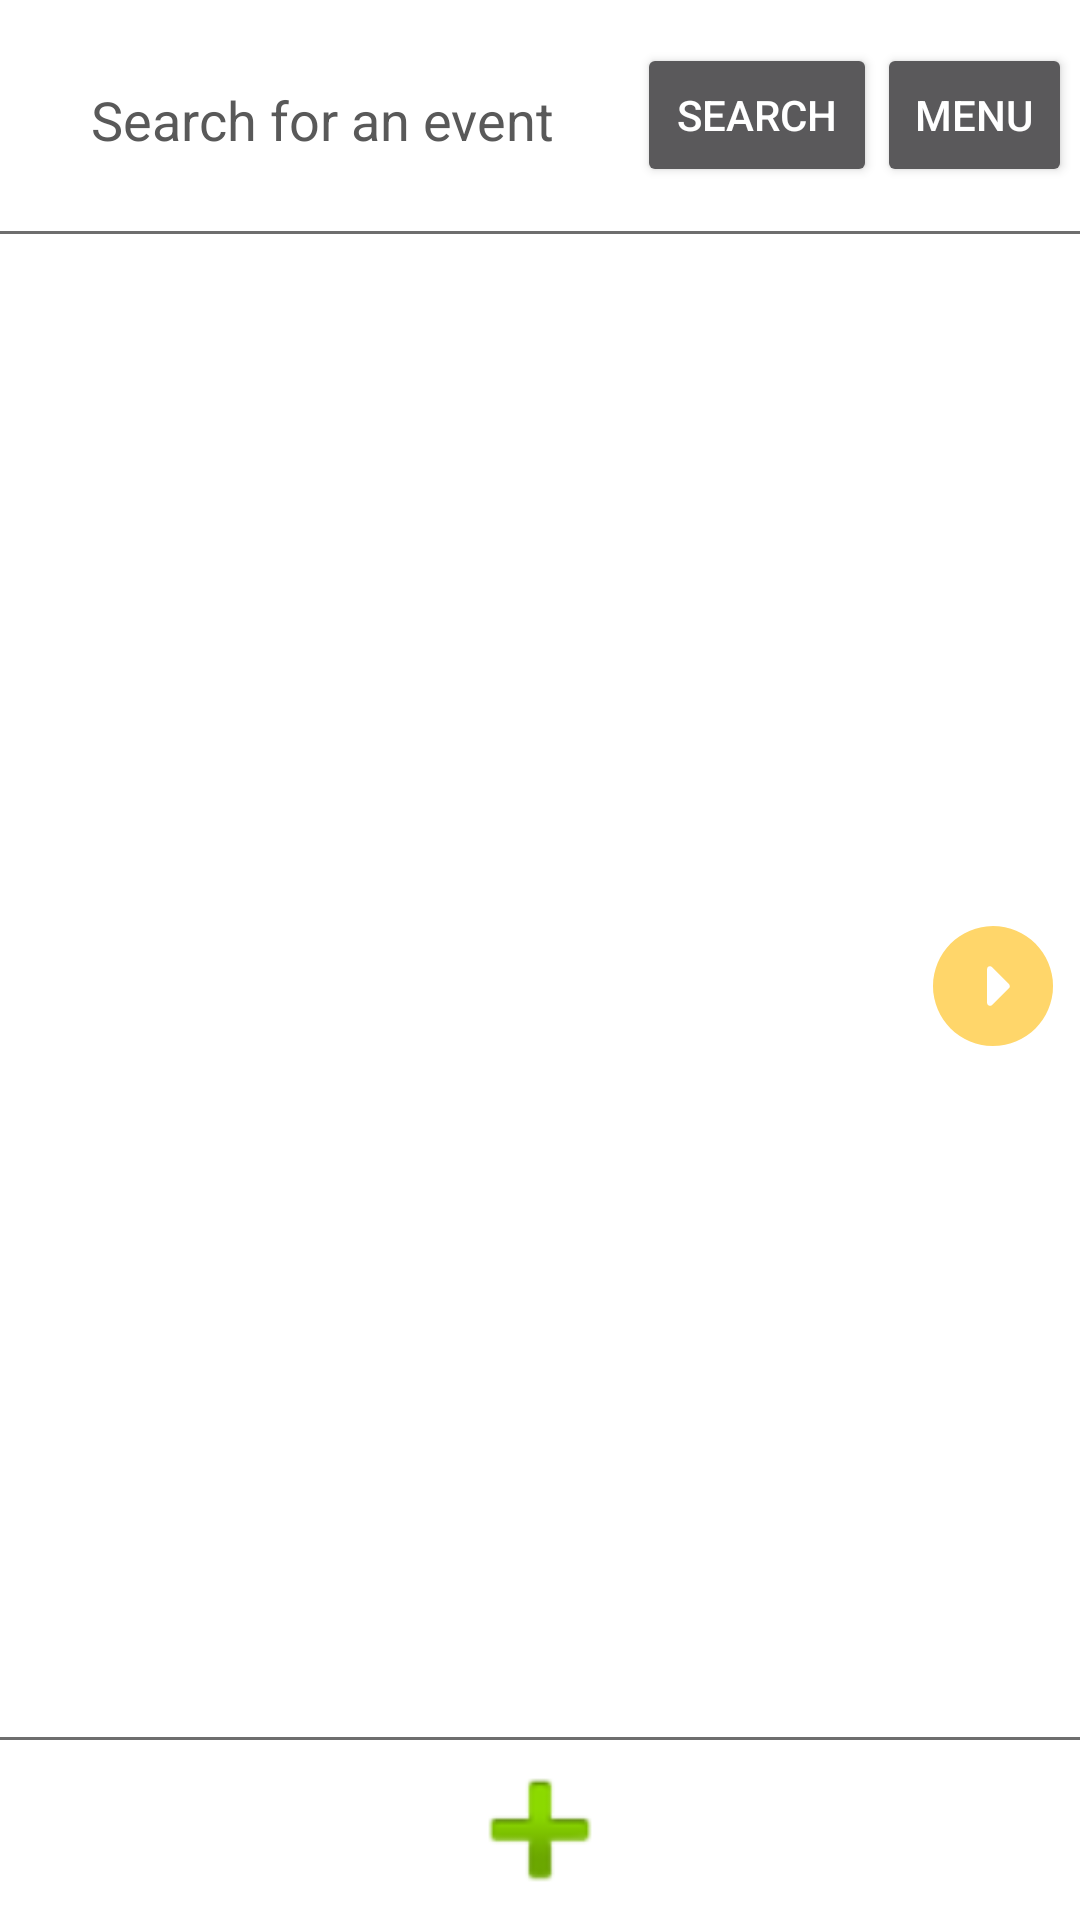

Screen size 1080*1920. Icon name, then its box in pixels as (x1, y1, x2, y2):
Add event: (489, 1779, 591, 1881)
